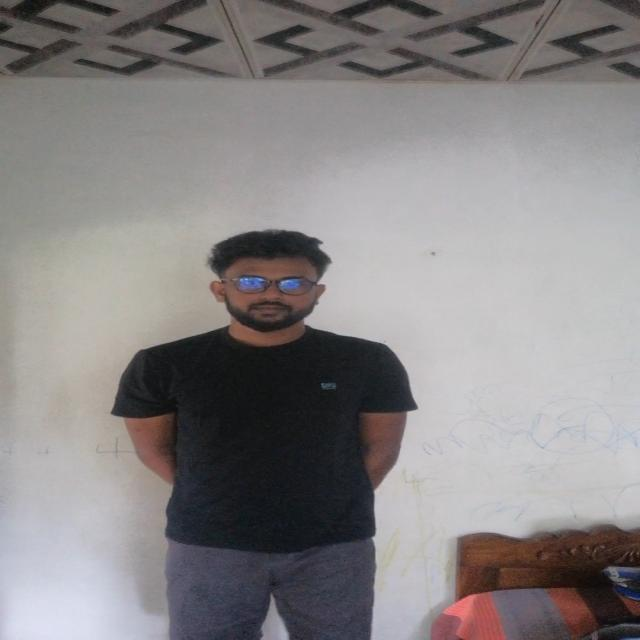Person: (109, 221, 416, 640)
